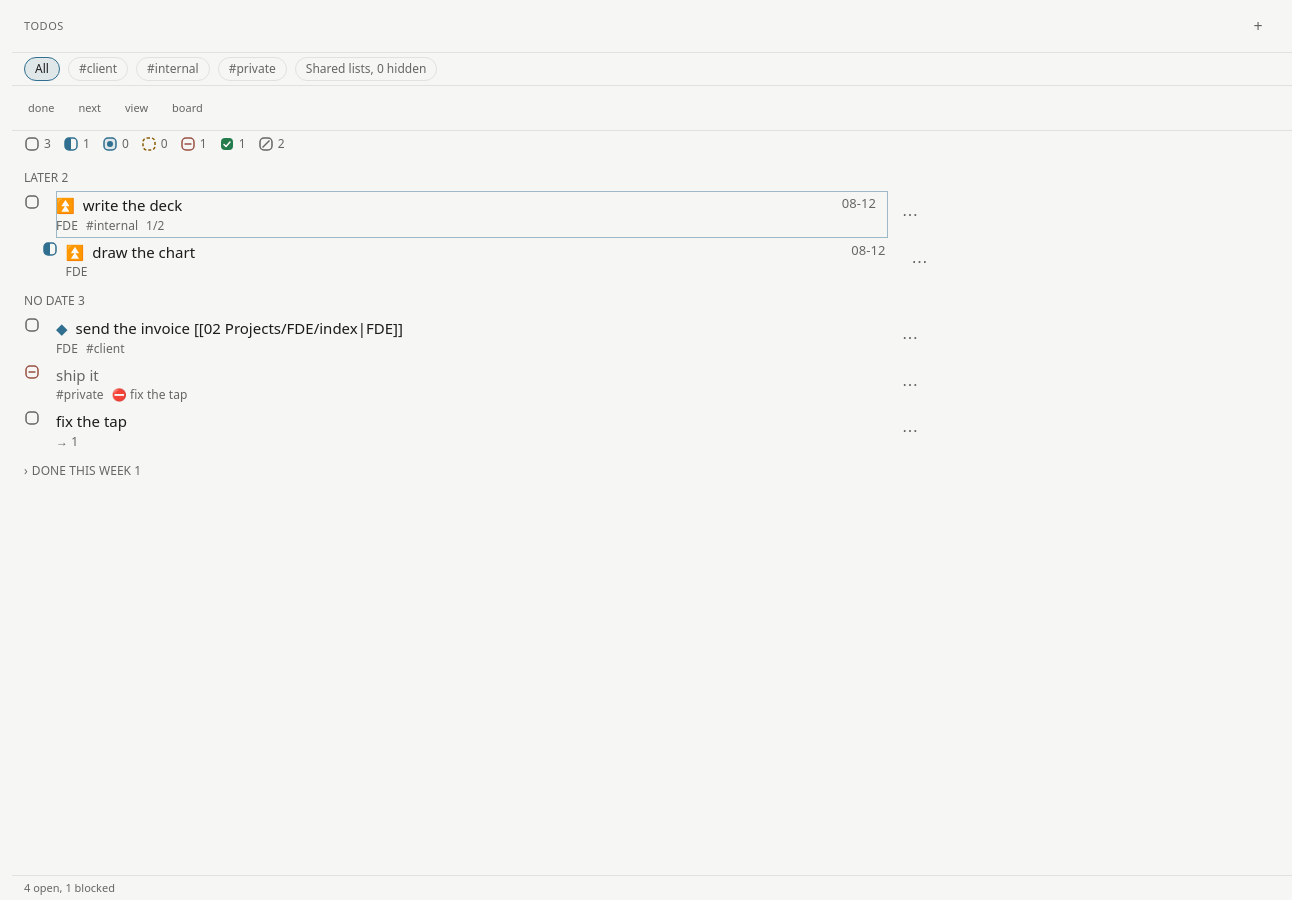
the board's lanes, columns and folds (#811 A6 A7 I3 I5) › #811 A8 lanes empty in the shown state are folded on the phone
expect the button "⏫ write the deck FDE #internal 1/2 08-12" is shown: met, box [56,191,888,238]
Press c in the element "todos"
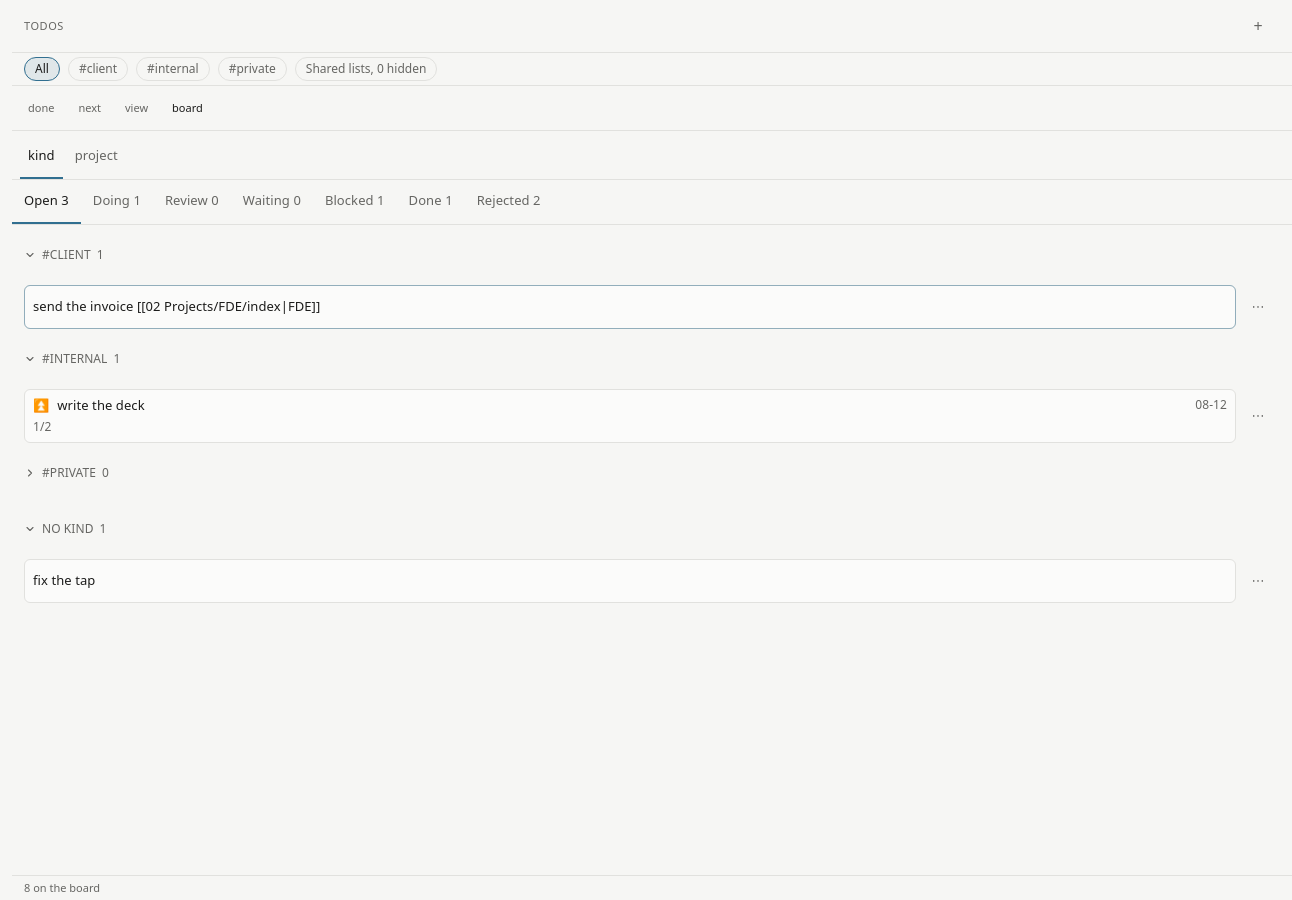
expect the button with test id "todo-card" is shown: met, box [24,285,1236,329]
Click the tab "Doing 1". click: (117, 202)
box: [81,180,153,224]
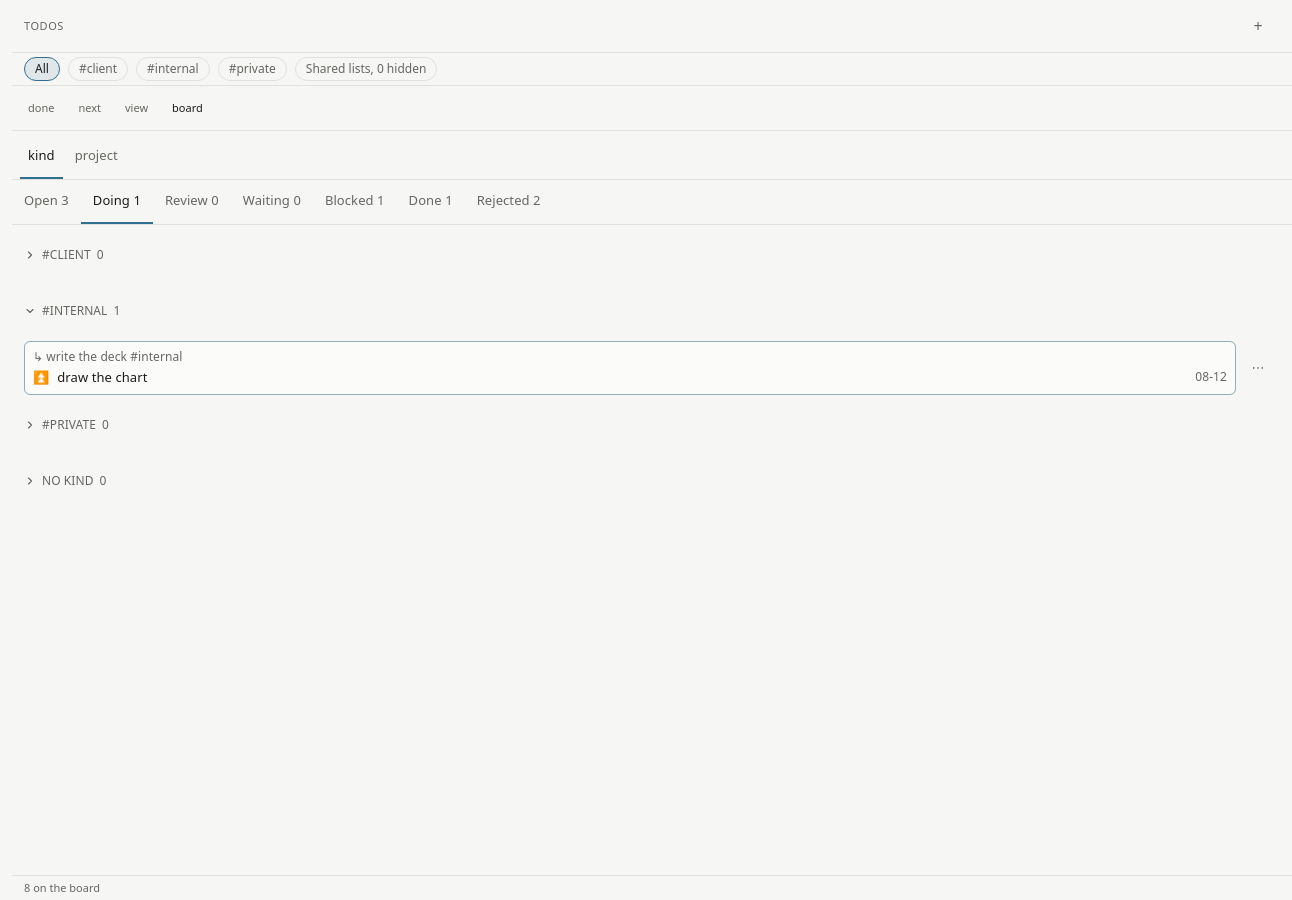
expect the 2nd button "#client" is disabled: met, box [24,233,1280,277]
expect the 2nd button "#client" is collapsed: met, box [24,233,1280,277]
